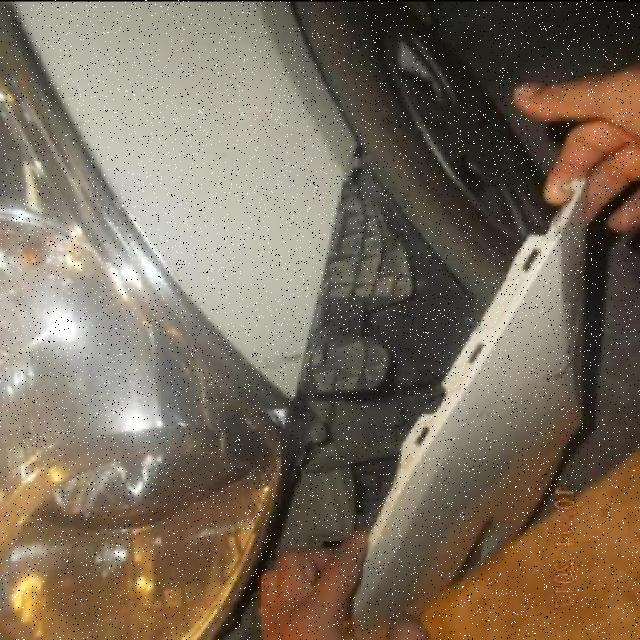damage: (250, 144, 559, 572)
